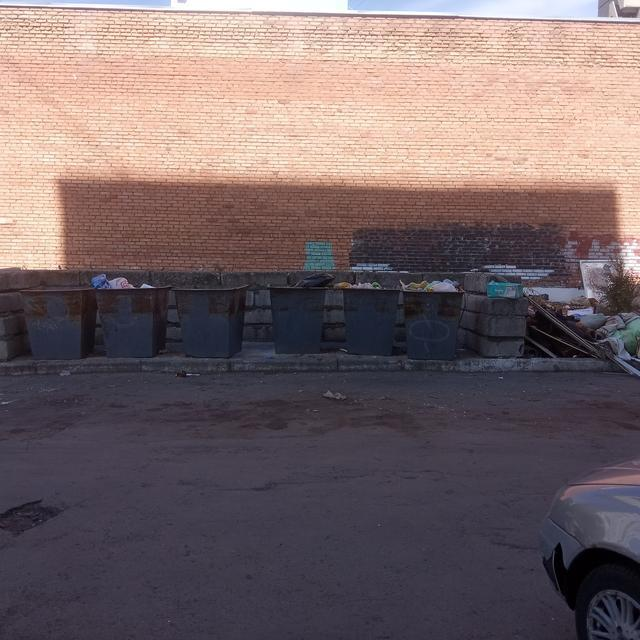Trash_Can_Empty: (19, 285, 96, 359), (173, 284, 248, 359)
Trash_Can_Full: (91, 273, 172, 358), (267, 272, 336, 354), (403, 279, 467, 361), (337, 281, 400, 356)
